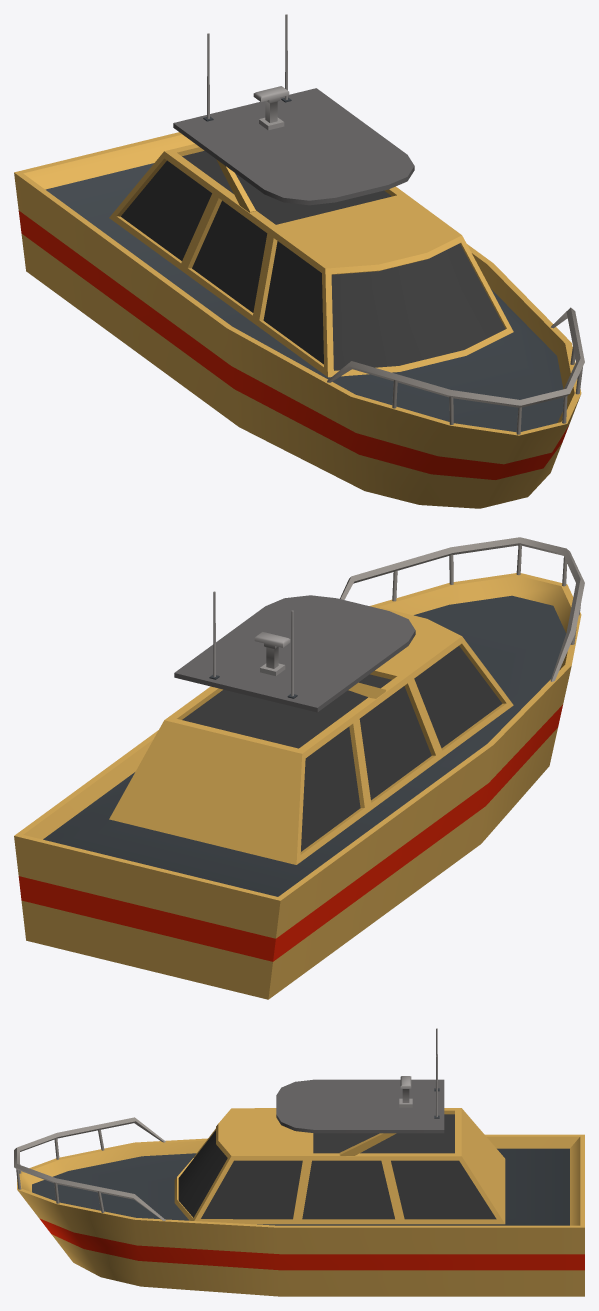
Rendered from Yacht_2.fbx.
3 renders of one model, top to bottom at view 1: azimuth 30°, elevation 25°; view 2: azimuth 150°, elevation 25°; view 3: azimuth 270°, elevation 25°, orthographic. The views are drawn at different scales.
Visible parts, largest first — view 1: Yacht_2; view 2: Yacht_2; view 3: Yacht_2.
Boxes of the visible parts, box(x1,y1,x2,y2) form: Yacht_2: box(14, 14, 584, 508); Yacht_2: box(14, 537, 584, 999); Yacht_2: box(14, 1028, 584, 1296).
Bounding box in the file's own units: 544 × 573 × 1407.
